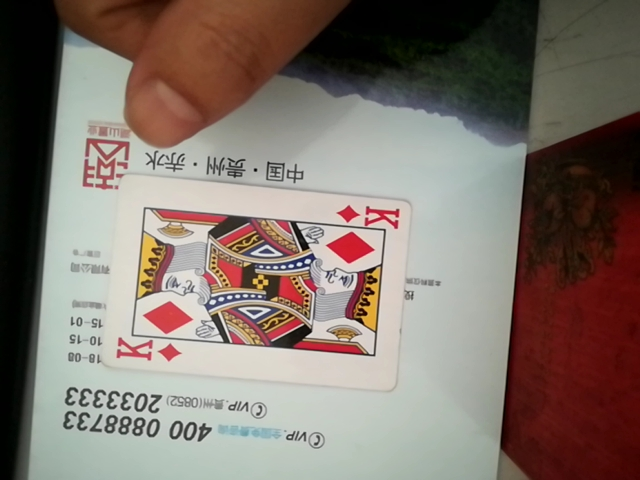fk k: (110, 181, 407, 385)
